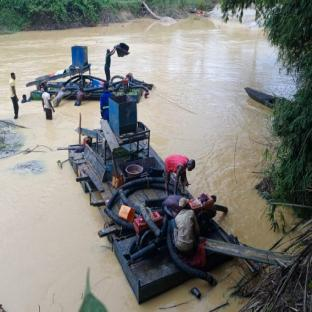ProcessingEquipment: (57, 97, 234, 288), (25, 49, 160, 101), (87, 45, 87, 49)
